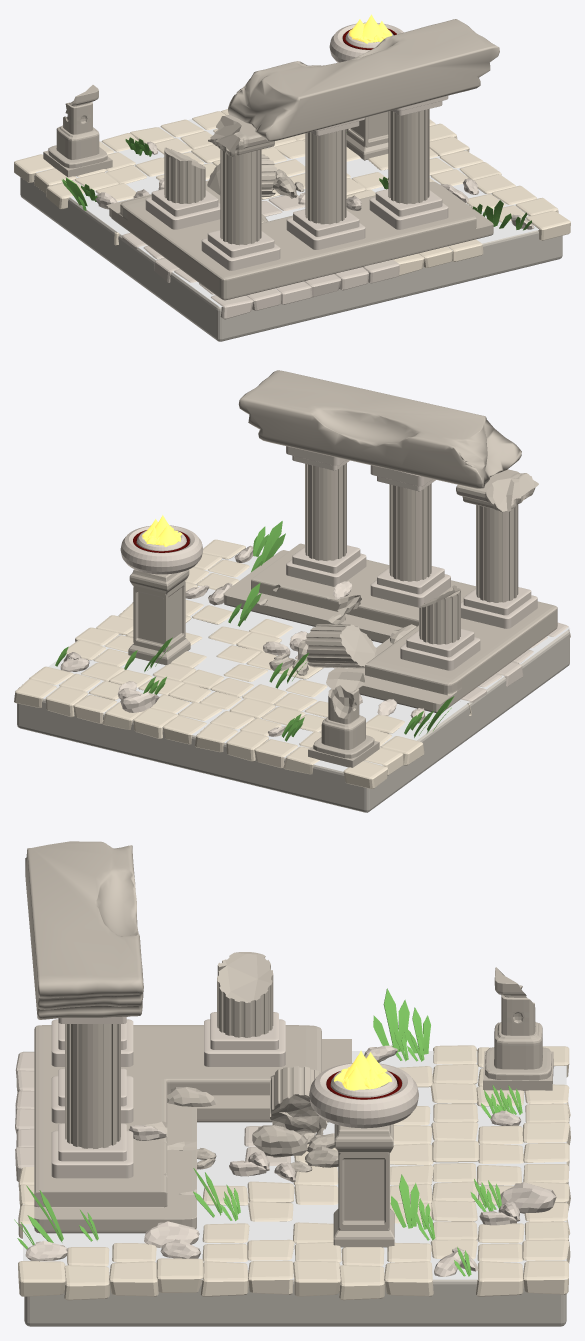
Rendered from ruiny.glb.
3 renders of one model, top to bottom at view 1: azimuth 30°, elevation 25°; view 2: azimuth 150°, elevation 25°; view 3: azimuth 270°, elevation 25°, orthographic. The views are drawn at different scales.
Parts seen in each view (by area): view 1: Cube.002, Cube.010, Plane, Plane.001, Cube.011, Plane.003, Cylinder.002, Cylinder, Cylinder.001, Cube.017, Cube, Cube.037 (+8 smaller); view 2: Cube.010, Cube.002, Plane.001, Plane, Plane.003, Cube.018, Cube.017, Cylinder.002, Cylinder.001, Cylinder, Cylinder.005, Torus.003 (+10 smaller); view 3: Cube.010, Plane.001, Cube.002, Plane, Plane.003, Cylinder, Cube.018, Cube.017, Cylinder.003, Torus.003, Cube, Cube.005 (+14 smaller).
Part boxes in pixels (bbox=[...]): Cube.002: bbox=[228, 19, 499, 141]; Cube.010: bbox=[14, 109, 570, 275]; Plane: bbox=[20, 175, 562, 341]; Plane.001: bbox=[106, 181, 493, 300]; Cube.011: bbox=[122, 195, 399, 319]; Plane.003: bbox=[36, 119, 538, 307]; Cylinder.002: bbox=[220, 148, 261, 245]; Cylinder: bbox=[388, 109, 429, 204]; Cylinder.001: bbox=[305, 129, 346, 224]; Cube.017: bbox=[43, 85, 112, 177]; Cube: bbox=[369, 189, 448, 229]; Cube.037: bbox=[201, 230, 280, 270]; Cube.010: bbox=[14, 539, 471, 788]; Cube.002: bbox=[238, 370, 521, 488]; Plane.001: bbox=[223, 543, 557, 712]; Plane: bbox=[17, 630, 569, 812]; Plane.003: bbox=[14, 552, 569, 771]; Cube.018: bbox=[128, 569, 190, 665]; Cube.017: bbox=[308, 667, 379, 767]; Cylinder.002: bbox=[476, 504, 518, 602]; Cylinder.001: bbox=[389, 483, 431, 581]; Cylinder: bbox=[305, 463, 346, 560]; Cylinder.005: bbox=[305, 624, 377, 668]; Torus.003: bbox=[120, 525, 203, 574]; Cube.010: bbox=[18, 1045, 570, 1300]; Plane.001: bbox=[34, 1025, 351, 1233]; Cube.002: bbox=[25, 841, 143, 1019]; Plane: bbox=[24, 1279, 566, 1326]; Plane.003: bbox=[23, 1051, 566, 1279]; Cylinder: bbox=[65, 1024, 120, 1148]; Cube.018: bbox=[333, 1124, 394, 1247]; Cube.017: bbox=[483, 967, 553, 1090]; Cylinder.003: bbox=[217, 952, 273, 1037]; Torus.003: bbox=[309, 1063, 418, 1128]; Cube: bbox=[51, 1123, 133, 1178]; Cube.005: bbox=[204, 1012, 285, 1066].
Bounding box in the file's own units: 20.93 × 12.01 × 19.79.
